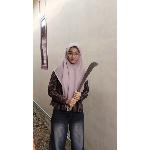Golok: (68, 59, 102, 110)
